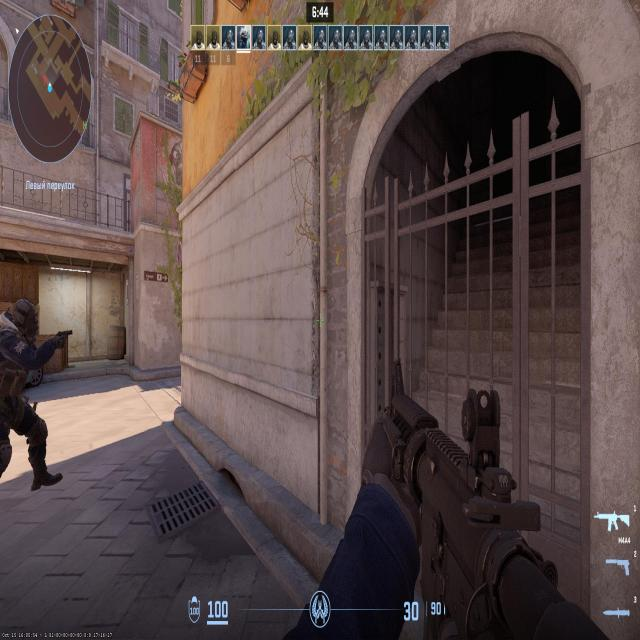CT: (1, 298, 43, 472)
CT_heat: (18, 306, 32, 346)
